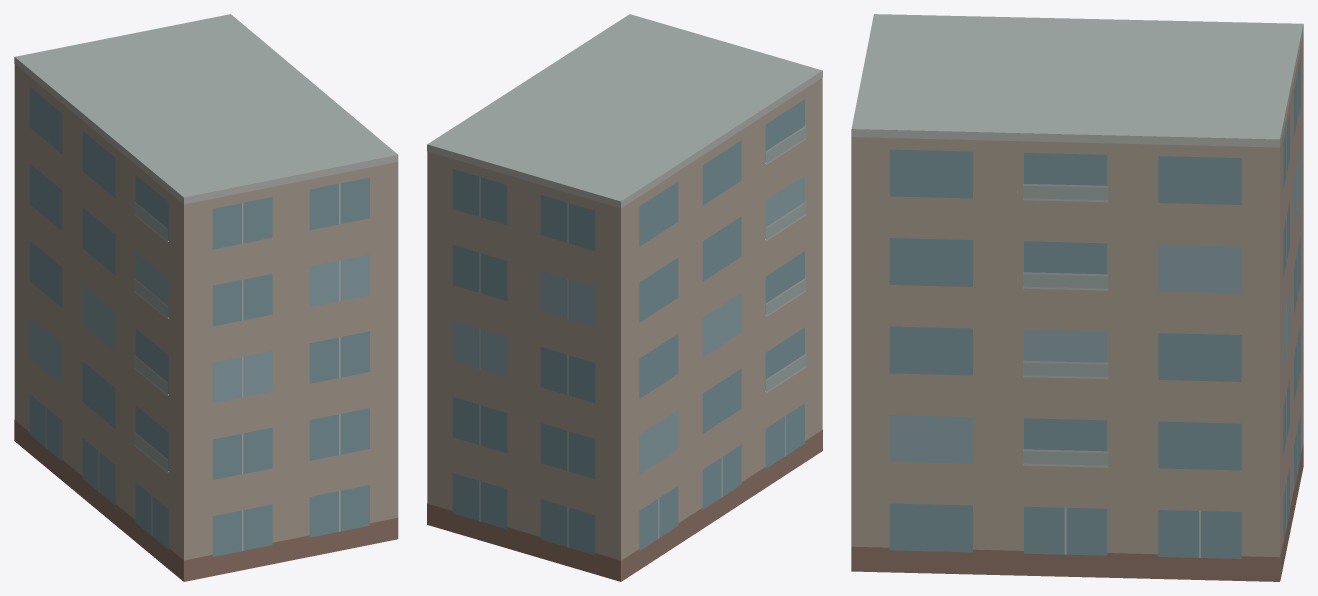
The model's file is survey-upis-32893636.glb.
The picture shows the model from 3 angles, left to right: view 1: azimuth 30°, elevation 25°; view 2: azimuth 150°, elevation 25°; view 3: azimuth 270°, elevation 25°; orthographic projection. The views are drawn at different scales.
Visible parts, largest first — view 1: survey-upis-32893636.tmp; view 2: survey-upis-32893636.tmp; view 3: survey-upis-32893636.tmp.
Boxes of the visible parts, left/top/right/bottom form: survey-upis-32893636.tmp: left=14, top=14, right=398, bottom=581; survey-upis-32893636.tmp: left=427, top=14, right=822, bottom=581; survey-upis-32893636.tmp: left=851, top=14, right=1303, bottom=581.
Size of the model in its own units: 8.13 by 13.35 by 12.37.
